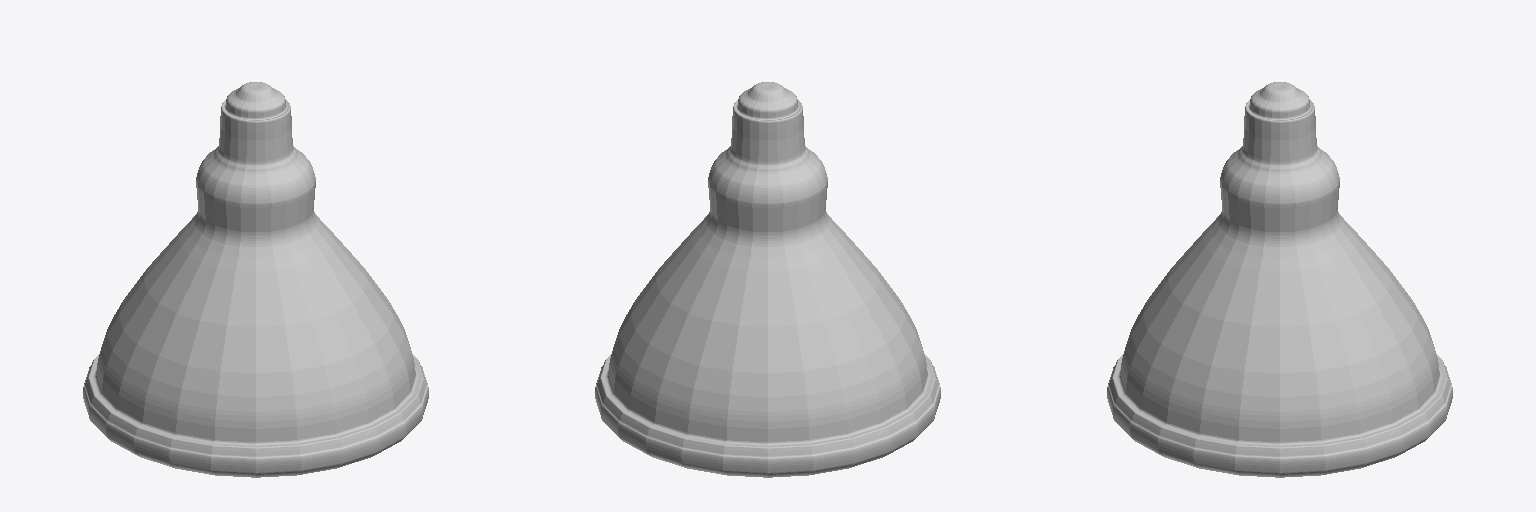
The model's file is light_leftfront.obj.
3 renders of one model, left to right at view 1: azimuth 30°, elevation 25°; view 2: azimuth 150°, elevation 25°; view 3: azimuth 270°, elevation 25°, orthographic.
Parts seen in each view (by area): view 1: Sealed_Beam004; view 2: Sealed_Beam004; view 3: Sealed_Beam004.
Part boxes in pixels (x1,y1,x2,y2): Sealed_Beam004: (83, 82, 428, 477); Sealed_Beam004: (595, 82, 940, 477); Sealed_Beam004: (1107, 82, 1452, 477).
Bounding box in the file's own units: 29.31 × 31.69 × 29.31.